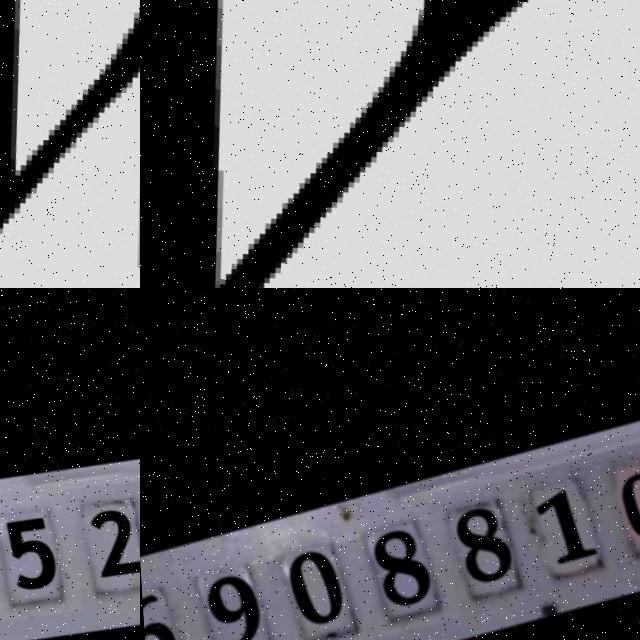0: (257, 526, 357, 640), (592, 449, 640, 558)
1: (511, 465, 607, 582)
2: (62, 485, 140, 594)
5: (0, 499, 65, 603)
6: (140, 579, 189, 640)
8: (426, 486, 526, 601), (346, 510, 444, 622)
9: (177, 553, 277, 640)
V: (140, 0, 627, 288)
W: (0, 0, 140, 288)
